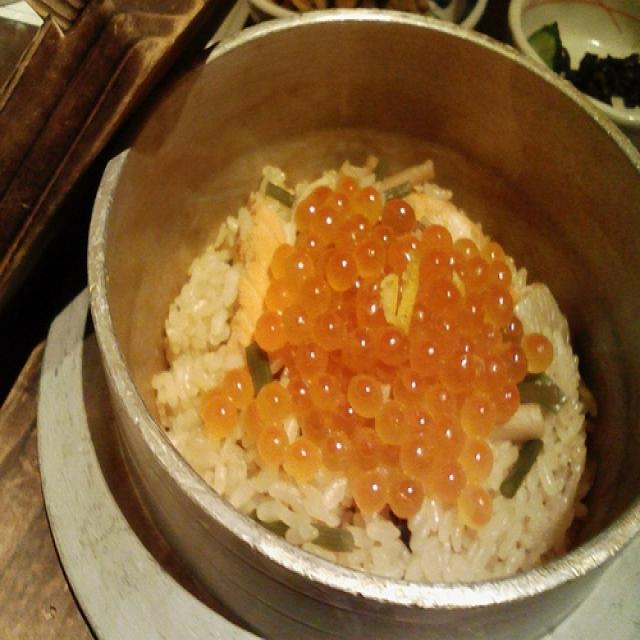蔬菜料理: (121, 121, 546, 640)
